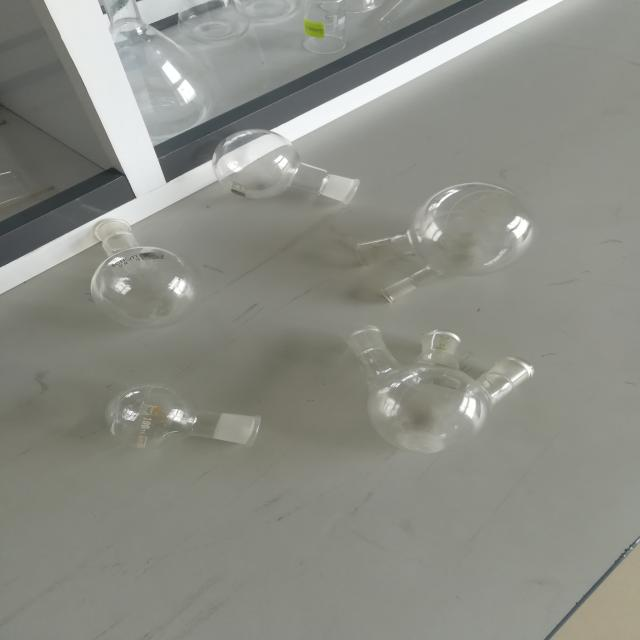Round_Bottom_Flask_Borosilicate_Glass_1_Neck: (54, 196, 210, 334), (190, 116, 380, 229), (97, 357, 280, 471)
Round_Bottom_Flask_Borosilicate_Glass_2_Neck: (342, 165, 552, 318)
Round_Bottom_Flask_Borosilicate_Glass_3_Neck: (316, 314, 554, 464)
